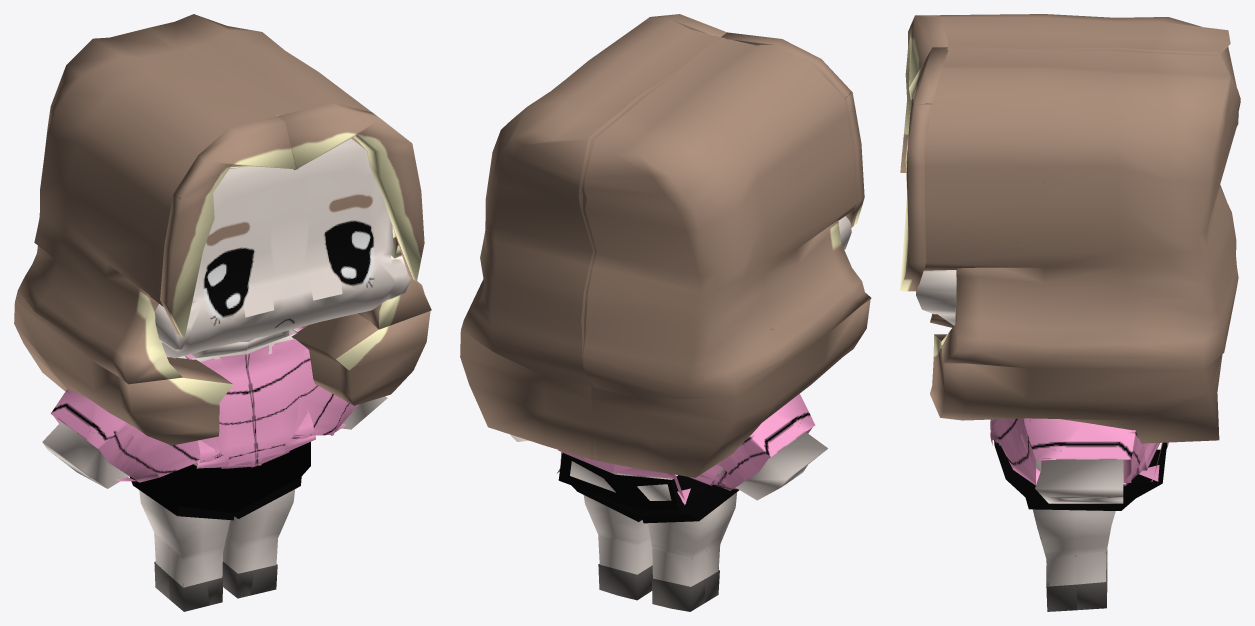
File: Pink_tallversion_test1.fbx
3 renders of one model, left to right at view 1: azimuth 30°, elevation 25°; view 2: azimuth 150°, elevation 25°; view 3: azimuth 270°, elevation 25°, orthographic. The views are drawn at different scales.
Visible parts, largest first — view 1: Hair, Body, new shirt, Short, new shoes; view 2: Hair, Body, Short, new shirt, new shoes; view 3: Hair, Body, new shirt, Short, new shoes.
Boxes of the visible parts, x1,y1,x2,y2 form: Hair: (14,14,431,445); Body: (42,115,411,587); new shirt: (51,326,358,482); Short: (129,442,310,520); new shoes: (154,561,277,611); Hair: (460,14,871,477); Body: (510,216,851,586); Short: (558,453,738,523); new shirt: (557,393,815,504); new shoes: (598,564,719,611); Hair: (900,14,1240,443); Body: (916,270,1162,586); new shirt: (990,418,1168,486); Short: (994,440,1167,510); new shoes: (1046,549,1107,611).
Bounding box in the file's own units: 2.07 × 1.9 × 3.36.
1 material, 1 textured.
